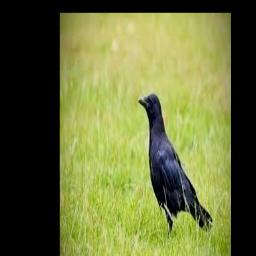Crow: (138, 93, 212, 244)
